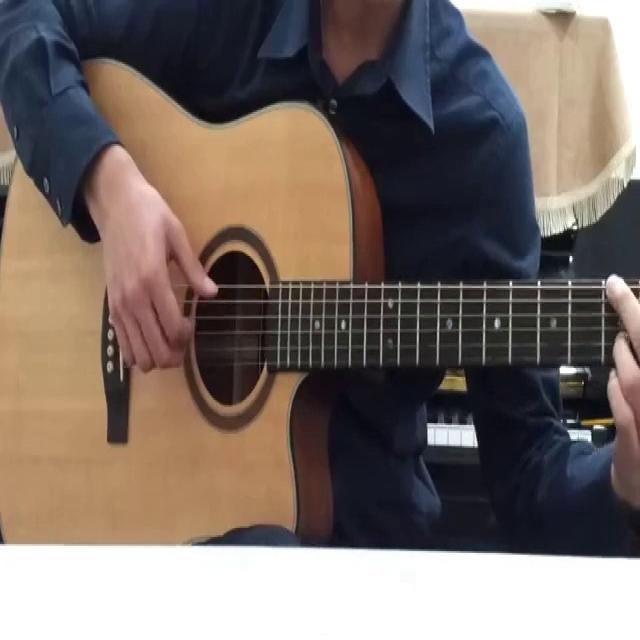Guitar: (0, 42, 639, 544)
